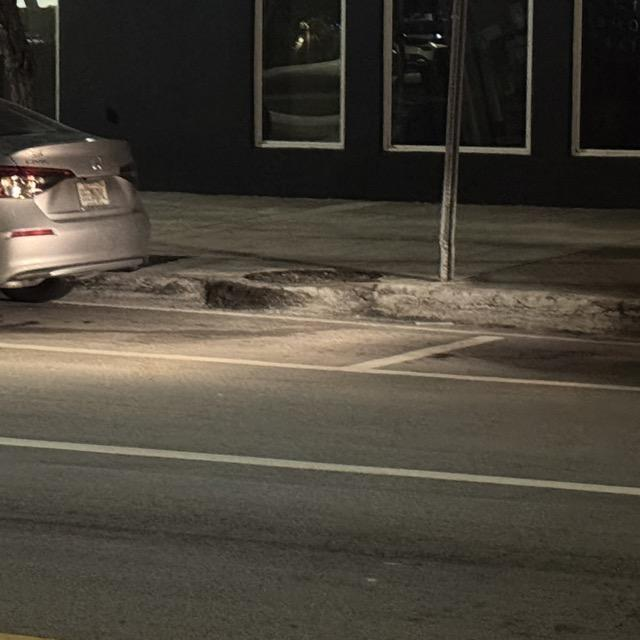curb: (56, 268, 639, 337)
